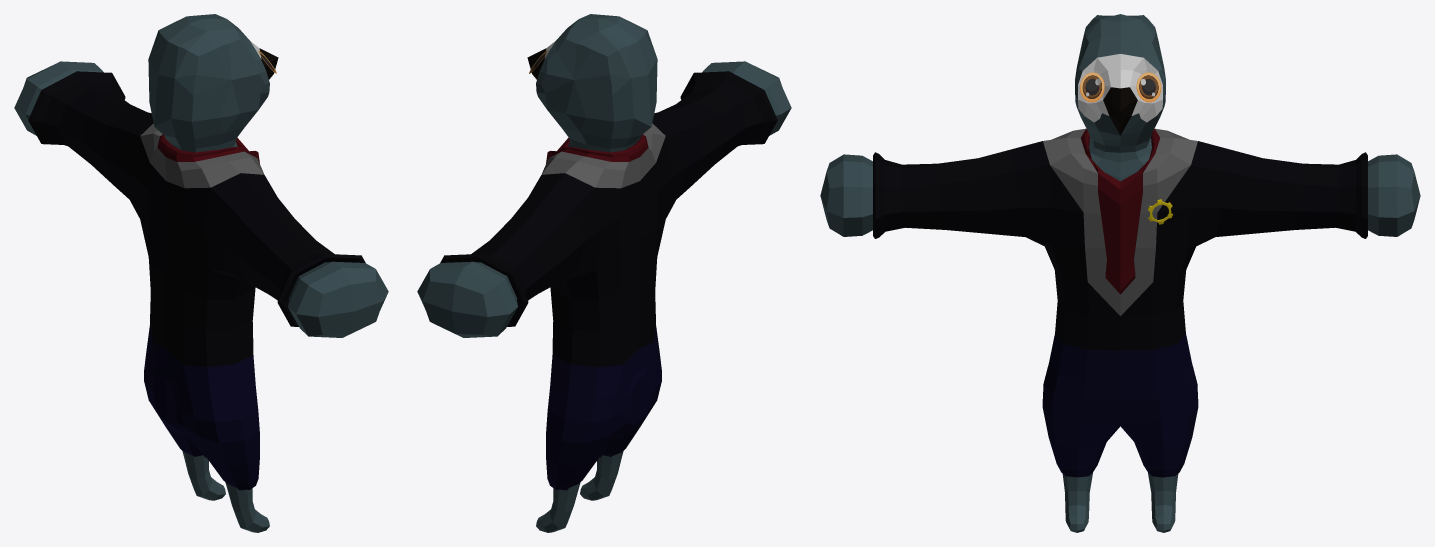
File: buho.obj
3 renders of one model, left to right at view 1: azimuth 30°, elevation 25°; view 2: azimuth 150°, elevation 25°; view 3: azimuth 270°, elevation 25°, orthographic.
Parts seen in each view (by area): view 1: Cuerpo.002; view 2: Cuerpo.002; view 3: Cuerpo.002.
Part boxes in pixels (<box>): Cuerpo.002: <box>14,14,388,532</box>; Cuerpo.002: <box>417,14,791,532</box>; Cuerpo.002: <box>820,14,1420,532</box>.
Bounding box in the file's own units: 0.8347 × 3.2 × 3.51.
